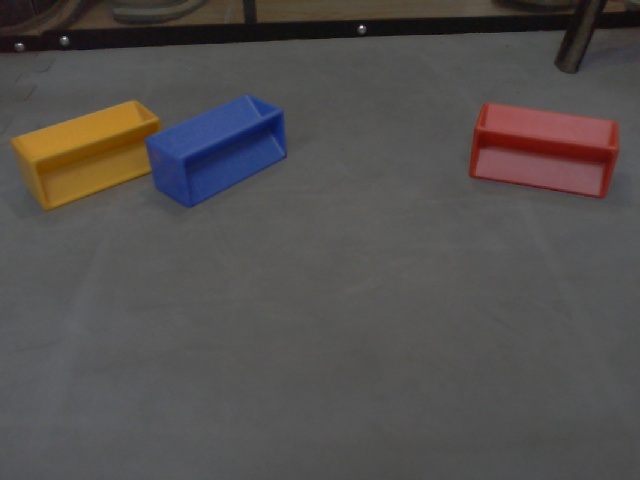BlueSample: (142, 93, 289, 208)
RedSample: (466, 101, 621, 202)
YellowSample: (8, 94, 163, 214)
